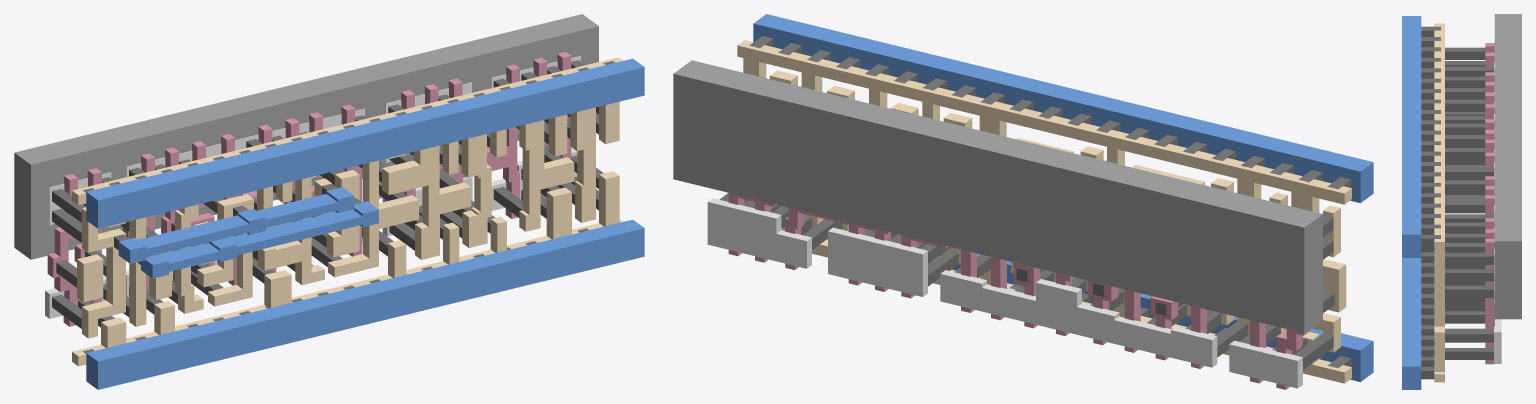
Rendered from sky130_fd_sc_hd__dfxbp_2.gds.gltf.
3 views of the same model, side by side, from view 1: azimuth 30°, elevation 25°; view 2: azimuth 150°, elevation 25°; view 3: azimuth 270°, elevation 25° (orthographic). The views are drawn at different scales.
Parts seen in each view (by area): view 1: sky130_fd_sc_hd__dfxbp_2_met1, sky130_fd_sc_hd__dfxbp_2_li1, sky130_fd_sc_hd__dfxbp_2_nwell, sky130_fd_sc_hd__dfxbp_2_licon, sky130_fd_sc_hd__dfxbp_2_poly, sky130_fd_sc_hd__dfxbp_2_diff, sky130_fd_sc_hd__dfxbp_2_mcon; view 2: sky130_fd_sc_hd__dfxbp_2_nwell, sky130_fd_sc_hd__dfxbp_2_diff, sky130_fd_sc_hd__dfxbp_2_li1, sky130_fd_sc_hd__dfxbp_2_met1, sky130_fd_sc_hd__dfxbp_2_poly, sky130_fd_sc_hd__dfxbp_2_licon, sky130_fd_sc_hd__dfxbp_2_mcon; view 3: sky130_fd_sc_hd__dfxbp_2_licon, sky130_fd_sc_hd__dfxbp_2_nwell, sky130_fd_sc_hd__dfxbp_2_met1, sky130_fd_sc_hd__dfxbp_2_mcon, sky130_fd_sc_hd__dfxbp_2_li1, sky130_fd_sc_hd__dfxbp_2_poly, sky130_fd_sc_hd__dfxbp_2_diff.
Boxes of the visible parts, x1,y1,x2,y2 form: sky130_fd_sc_hd__dfxbp_2_met1: [86, 58, 644, 389]; sky130_fd_sc_hd__dfxbp_2_li1: [72, 57, 622, 366]; sky130_fd_sc_hd__dfxbp_2_nwell: [14, 14, 598, 259]; sky130_fd_sc_hd__dfxbp_2_licon: [52, 60, 603, 328]; sky130_fd_sc_hd__dfxbp_2_poly: [47, 52, 571, 326]; sky130_fd_sc_hd__dfxbp_2_diff: [45, 56, 580, 318]; sky130_fd_sc_hd__dfxbp_2_mcon: [83, 61, 614, 353]; sky130_fd_sc_hd__dfxbp_2_nwell: [673, 60, 1322, 333]; sky130_fd_sc_hd__dfxbp_2_diff: [707, 198, 1302, 388]; sky130_fd_sc_hd__dfxbp_2_li1: [737, 40, 1351, 383]; sky130_fd_sc_hd__dfxbp_2_met1: [753, 14, 1373, 381]; sky130_fd_sc_hd__dfxbp_2_poly: [728, 193, 1310, 389]; sky130_fd_sc_hd__dfxbp_2_licon: [719, 73, 1334, 369]; sky130_fd_sc_hd__dfxbp_2_mcon: [749, 36, 1351, 367]; sky130_fd_sc_hd__dfxbp_2_licon: [1445, 47, 1493, 359]; sky130_fd_sc_hd__dfxbp_2_nwell: [1494, 14, 1521, 319]; sky130_fd_sc_hd__dfxbp_2_met1: [1402, 16, 1421, 389]; sky130_fd_sc_hd__dfxbp_2_mcon: [1421, 26, 1440, 379]; sky130_fd_sc_hd__dfxbp_2_li1: [1434, 23, 1444, 382]; sky130_fd_sc_hd__dfxbp_2_poly: [1485, 43, 1494, 364]; sky130_fd_sc_hd__dfxbp_2_diff: [1494, 62, 1501, 363].
Size of the model in its own units: 10.04 by 3.2 by 2.24.
